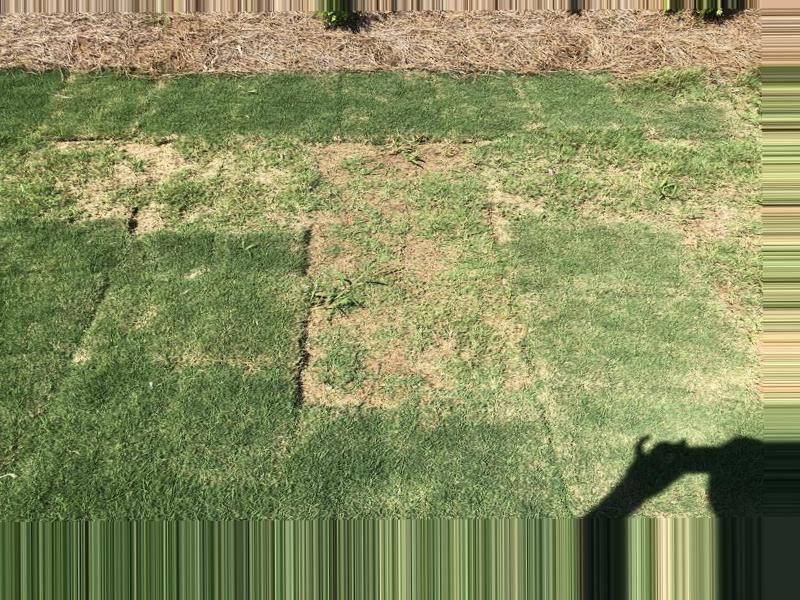patch: (501, 149, 734, 253), (316, 230, 448, 407), (323, 152, 474, 224), (104, 150, 211, 225)
